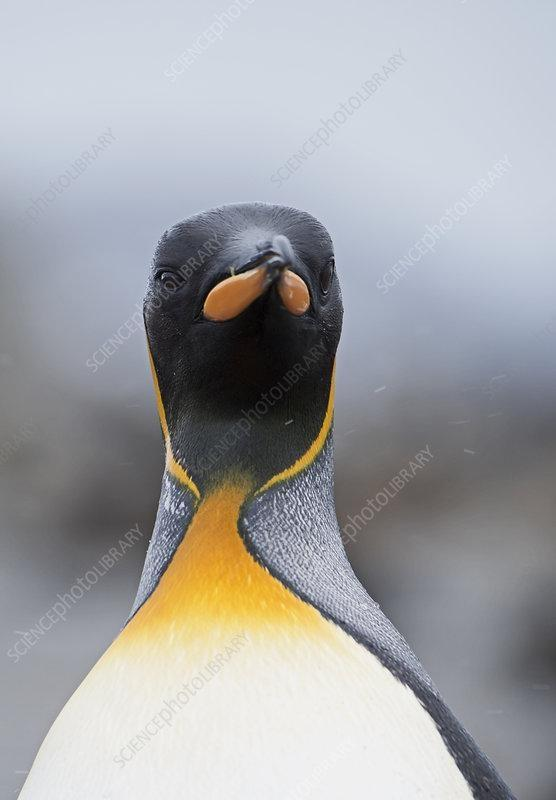Penguin: (19, 203, 515, 799)
